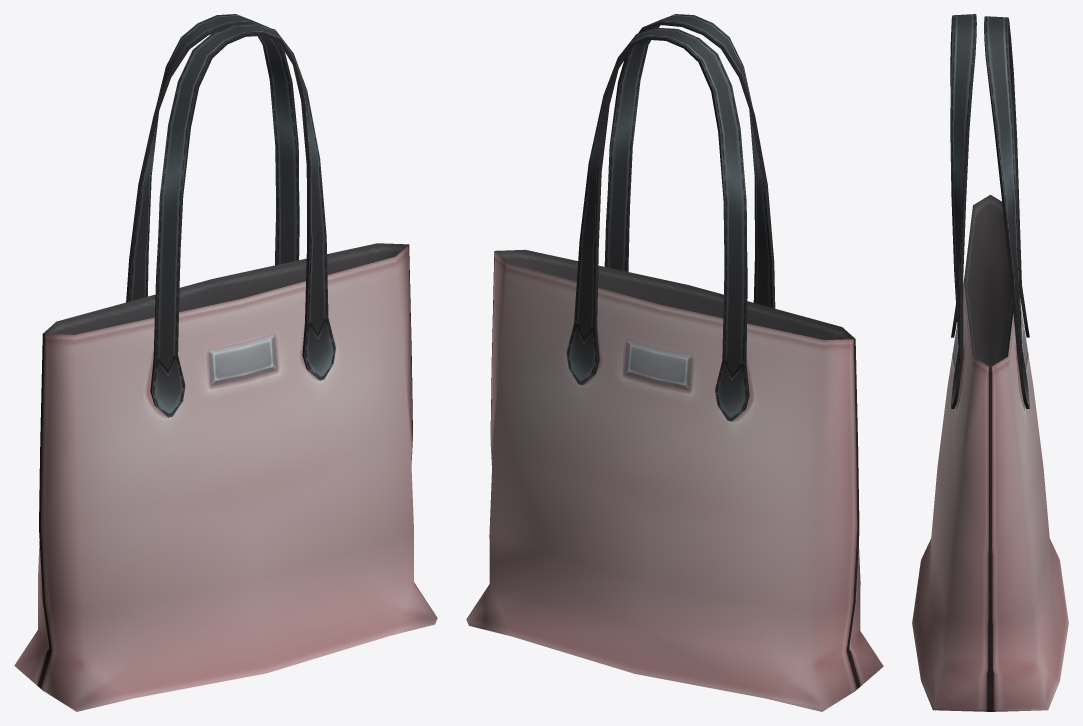
The model's file is SiWangPenQuan_01_kuabao_01.FBX.
3 views of the same model, side by side, from view 1: azimuth 30°, elevation 25°; view 2: azimuth 150°, elevation 25°; view 3: azimuth 270°, elevation 25° (orthographic). The views are drawn at different scales.
Parts seen in each view (by area): view 1: SiWangPenQuan_01_kuabao_01; view 2: SiWangPenQuan_01_kuabao_01; view 3: SiWangPenQuan_01_kuabao_01.
Boxes of the visible parts, x1,y1,x2,y2 form: SiWangPenQuan_01_kuabao_01: (14,14,437,711); SiWangPenQuan_01_kuabao_01: (466,14,883,711); SiWangPenQuan_01_kuabao_01: (912,14,1068,711).
Size of the model in its own units: 131 by 209 by 49.07.
